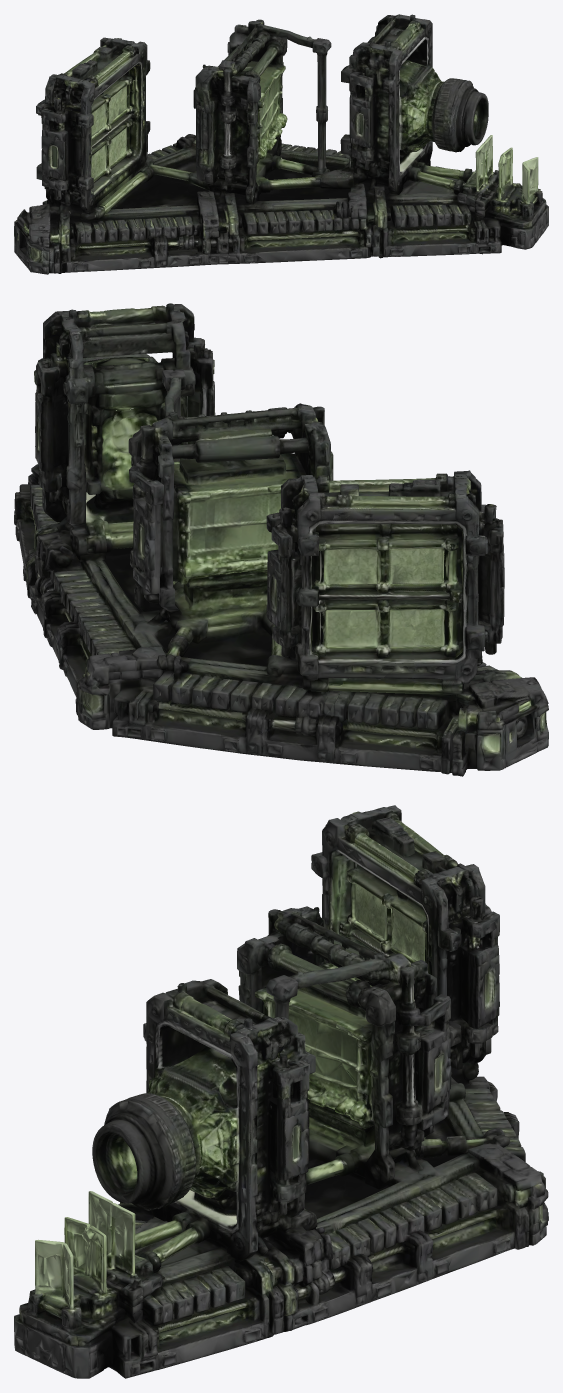
The model's file is camera_rig_web.glb.
The picture shows the model from 3 angles, top to bottom: view 1: azimuth 30°, elevation 25°; view 2: azimuth 150°, elevation 25°; view 3: azimuth 270°, elevation 25°; orthographic projection. The views are drawn at different scales.
Visible parts, largest first — view 1: tripo_node_1b8debc5-506e-4996-99f5-55fe814eee44; view 2: tripo_node_1b8debc5-506e-4996-99f5-55fe814eee44; view 3: tripo_node_1b8debc5-506e-4996-99f5-55fe814eee44.
Boxes of the visible parts, x1,y1,x2,y2 form: tripo_node_1b8debc5-506e-4996-99f5-55fe814eee44: [14, 14, 548, 274]; tripo_node_1b8debc5-506e-4996-99f5-55fe814eee44: [14, 303, 548, 776]; tripo_node_1b8debc5-506e-4996-99f5-55fe814eee44: [14, 805, 548, 1378].
Size of the model in its own units: 0.9786 by 0.4144 by 0.6634.
Materials: 1 (1 with a texture image).
